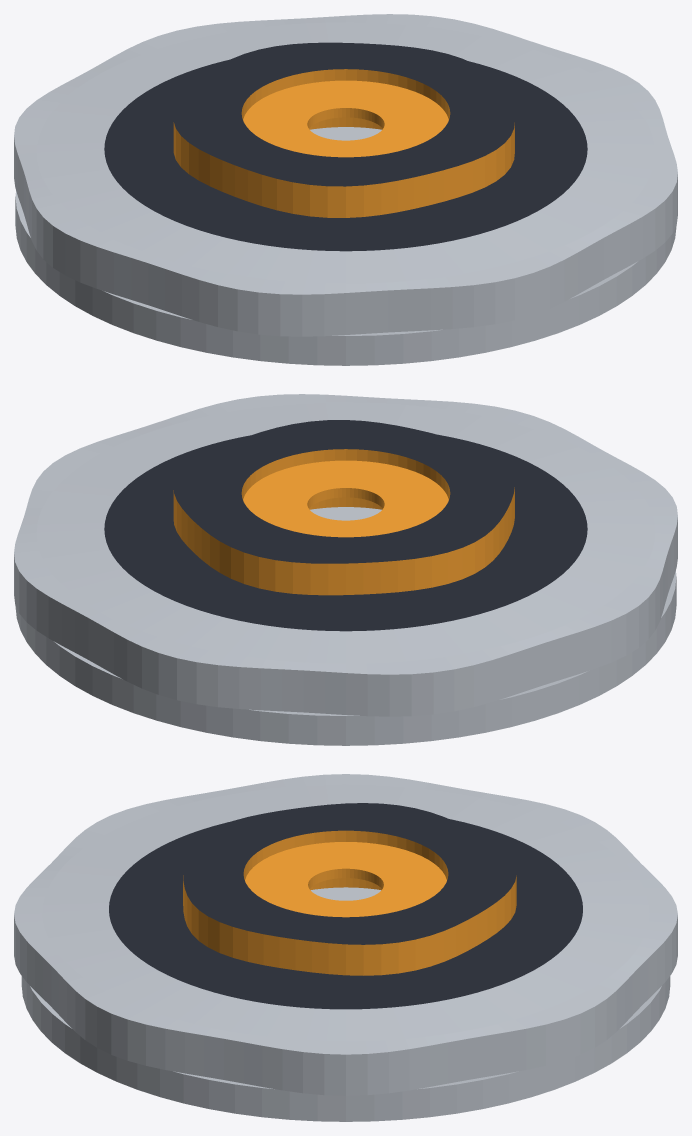
Rendered from assembly_phase2a_iron_bastion.glb.
3 views of the same model, one above another, from view 1: azimuth 30°, elevation 25°; view 2: azimuth 150°, elevation 25°; view 3: azimuth 270°, elevation 25° (orthographic).
Visible parts, largest first — view 1: GEO_blade_iron_bastion_BODY, GEO_core_solar_wolf_BODY, GEO_assist_heavy_BODY, GEO_core_solar_wolf_NSS_V1_COLLAR, GEO_blade_iron_bastion_NSS_V1_COLLAR; view 2: GEO_blade_iron_bastion_BODY, GEO_core_solar_wolf_BODY, GEO_assist_heavy_BODY, GEO_core_solar_wolf_NSS_V1_COLLAR, GEO_blade_iron_bastion_NSS_V1_COLLAR; view 3: GEO_blade_iron_bastion_BODY, GEO_core_solar_wolf_BODY, GEO_assist_heavy_BODY, GEO_core_solar_wolf_NSS_V1_COLLAR, GEO_blade_iron_bastion_NSS_V1_COLLAR.
Boxes of the visible parts, box(x1,y1,x2,y2) form: GEO_blade_iron_bastion_BODY: box(14, 14, 677, 336); GEO_core_solar_wolf_BODY: box(173, 42, 514, 217); GEO_assist_heavy_BODY: box(15, 191, 676, 365); GEO_core_solar_wolf_NSS_V1_COLLAR: box(243, 80, 448, 157); GEO_blade_iron_bastion_NSS_V1_COLLAR: box(310, 127, 381, 140); GEO_blade_iron_bastion_BODY: box(14, 394, 677, 716); GEO_core_solar_wolf_BODY: box(173, 420, 514, 595); GEO_assist_heavy_BODY: box(15, 571, 676, 745); GEO_core_solar_wolf_NSS_V1_COLLAR: box(243, 460, 448, 537); GEO_blade_iron_bastion_NSS_V1_COLLAR: box(310, 507, 381, 520); GEO_blade_iron_bastion_BODY: box(14, 774, 677, 1095); GEO_core_solar_wolf_BODY: box(183, 803, 516, 975); GEO_assist_heavy_BODY: box(21, 976, 670, 1121); GEO_core_solar_wolf_NSS_V1_COLLAR: box(245, 842, 446, 917); GEO_blade_iron_bastion_NSS_V1_COLLAR: box(311, 887, 380, 900).
Bounding box in the file's own units: 0.07 × 0.0239 × 0.07.
